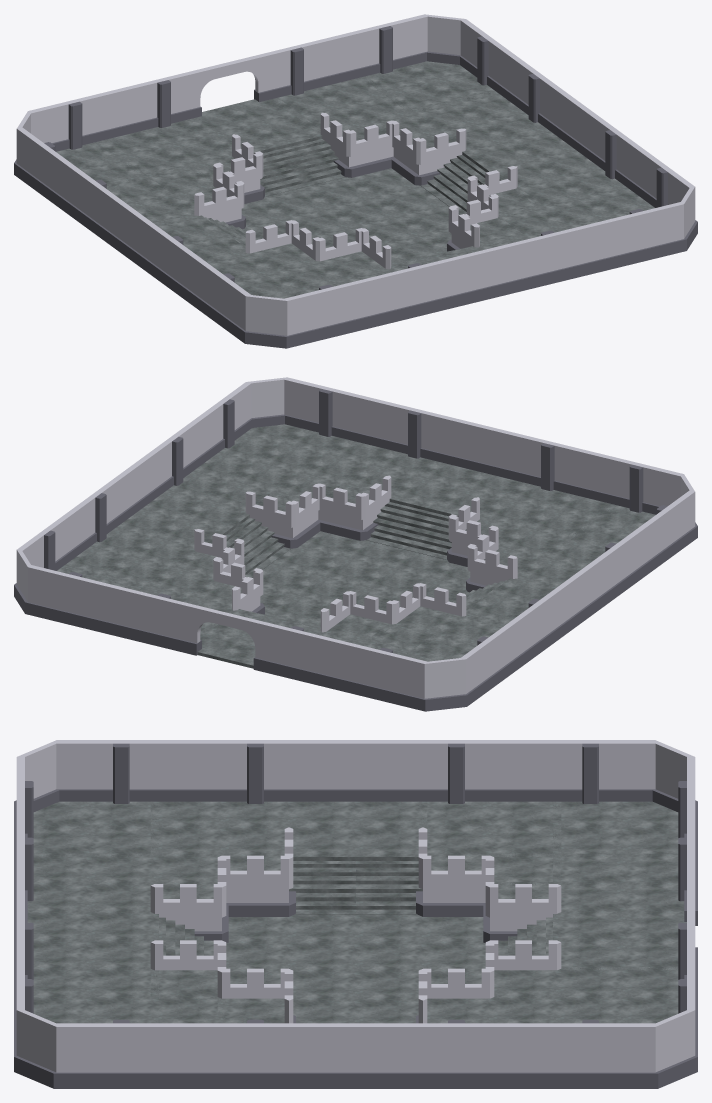
File: room_md_01.fbx
3 renders of one model, top to bottom at view 1: azimuth 30°, elevation 25°; view 2: azimuth 150°, elevation 25°; view 3: azimuth 270°, elevation 25°, orthographic. The views are drawn at different scales.
Visible parts, largest first — view 1: floor_01_122, floor_01_123, floor_01_99, floor_01_126, floor_01_125, floor_01_124, floor_01_129, floor_02_131, corner_02_148, floor_01_100, raised_floor_06_103, floor_01_98 (+55 smaller); view 2: floor_01_118, floor_01_123, floor_01_100, floor_01_124, floor_01_120, floor_01_126, floor_01_119, floor_02_132, corner_02_151, floor_01_99, raised_floor_06_107, floor_01_97 (+56 smaller); view 3: floor_01_121, floor_01_128, floor_01_120, floor_01_129, floor_01_127, floor_01_118, floor_01_122, floor_01_97, floor_01_98, floor_01_125, floor_01_119, floor_02_133 (+48 smaller).
Boxes of the visible parts, left/top/right/bottom form: floor_01_122: left=183, top=98, right=322, bottom=155; floor_01_123: left=462, top=128, right=599, bottom=184; floor_01_99: left=303, top=168, right=443, bottom=224; floor_01_126: left=516, top=166, right=648, bottom=224; floor_01_125: left=274, top=76, right=414, bottom=132; floor_01_124: left=410, top=91, right=547, bottom=149; floor_01_129: left=95, top=119, right=233, bottom=175; floor_02_131: left=363, top=61, right=497, bottom=112; corner_02_148: left=232, top=286, right=309, bottom=348; floor_01_100: left=353, top=202, right=459, bottom=260; raised_floor_06_103: left=320, top=112, right=395, bottom=177; floor_01_98: left=241, top=188, right=354, bottom=239; floor_01_118: left=389, top=461, right=528, bottom=518; floor_01_123: left=112, top=491, right=249, bottom=549; floor_01_100: left=270, top=531, right=408, bottom=587; floor_01_124: left=63, top=528, right=194, bottom=588; floor_01_120: left=478, top=482, right=616, bottom=539; floor_01_126: left=163, top=453, right=300, bottom=511; floor_01_119: left=297, top=439, right=437, bottom=497; floor_02_132: left=214, top=424, right=344, bottom=475; corner_02_151: left=402, top=648, right=479, bottom=711; floor_01_99: left=252, top=565, right=358, bottom=623; raised_floor_06_107: left=316, top=475, right=391, bottom=540; floor_01_97: left=357, top=551, right=470, bottom=602; floor_01_121: left=284, top=801, right=427, bottom=860; floor_01_128: left=419, top=801, right=561, bottom=856; floor_01_120: left=27, top=853, right=158, bottom=913; floor_01_129: left=553, top=853, right=684, bottom=913; floor_01_127: left=150, top=801, right=292, bottom=856; floor_01_118: left=27, top=911, right=158, bottom=970; floor_01_122: left=553, top=911, right=686, bottom=970; floor_01_97: left=226, top=914, right=360, bottom=969; floor_01_98: left=351, top=914, right=485, bottom=968; floor_01_125: left=553, top=967, right=678, bottom=1023; floor_01_119: left=33, top=967, right=158, bottom=1023; floor_02_133: left=33, top=801, right=158, bottom=856.
Size of the model in its own units: 102 by 15 by 102.
